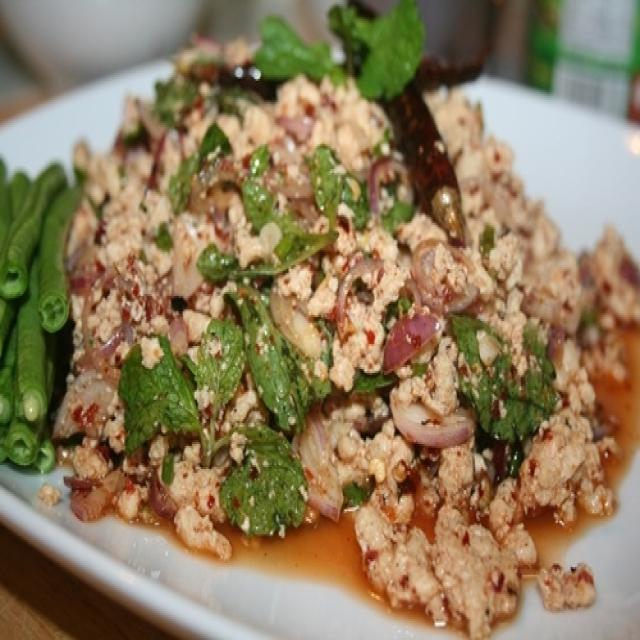鸡肉料理 含炸鸡: (22, 21, 605, 617)
